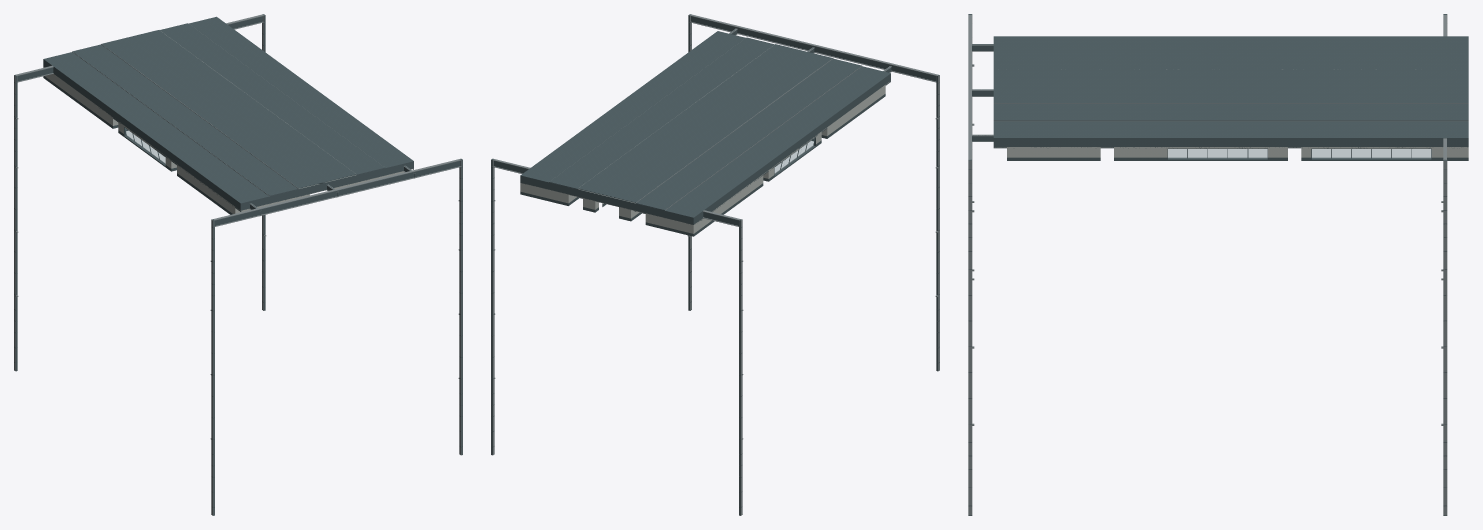
The model's file is AST-CMD-001.glb.
3 views of the same model, side by side, from view 1: azimuth 30°, elevation 25°; view 2: azimuth 150°, elevation 25°; view 3: azimuth 270°, elevation 25° (orthographic). The views are drawn at different scales.
Parts seen in each view (by area): view 1: CMD_CELL_X-3_Y9_Z-2_ASTRAEA_staff_bluegrey_paint, CMD_CELL_X-3_Y9_Z0_ASTRAEA_staff_bluegrey_paint, CMD_CELL_X-3_Y9_Z-1_ASTRAEA_staff_bluegrey_paint, CMD_CELL_X-3_Y9_Z1_ASTRAEA_staff_bluegrey_paint, CMD_CELL_X-3_Y9_Z4_ASTRAEA_staff_bluegrey_paint, CMD_CELL_X-3_Y9_Z5_ASTRAEA_staff_bluegrey_paint, CMD_CELL_X-3_Y9_Z-3_ASTRAEA_staff_bluegrey_paint, CMD_CELL_X-1_Y9_Z5_ASTRAEA_staff_bluegrey_paint, CMD_CELL_X-3_Y9_Z2_ASTRAEA_staff_bluegrey_paint, CMD_CELL_X-3_Y9_Z3_ASTRAEA_staff_bluegrey_paint, CMD_CELL_X-3_Y9_Z-4_ASTRAEA_staff_bluegrey_paint, CMD_CELL_X-3_Y9_Z-5_ASTRAEA_staff_bluegrey_paint (+5 smaller); view 2: CMD_CELL_X-3_Y9_Z-1_ASTRAEA_staff_bluegrey_paint, CMD_CELL_X-3_Y9_Z0_ASTRAEA_staff_bluegrey_paint, CMD_CELL_X-3_Y9_Z-2_ASTRAEA_staff_bluegrey_paint, CMD_CELL_X-3_Y9_Z-3_ASTRAEA_staff_bluegrey_paint, CMD_CELL_X-3_Y9_Z-5_ASTRAEA_staff_bluegrey_paint, CMD_CELL_X-3_Y9_Z1_ASTRAEA_staff_bluegrey_paint, CMD_CELL_X-3_Y9_Z-4_ASTRAEA_staff_bluegrey_paint, CMD_CELL_X-3_Y9_Z2_ASTRAEA_staff_bluegrey_paint, CMD_CELL_X-3_Y9_Z4_ASTRAEA_staff_bluegrey_paint, CMD_CELL_X-3_Y9_Z3_ASTRAEA_staff_bluegrey_paint, CMD_CELL_X-3_Y9_Z-6_ASTRAEA_staff_bluegrey_paint, CMD_CELL_X-3_Y9_Z-7_ASTRAEA_staff_bluegrey_paint (+1 smaller); view 3: CMD_CELL_X2_Y9_Z0_ASTRAEA_staff_bluegrey_paint, CMD_CELL_X2_Y9_Z-1_ASTRAEA_staff_bluegrey_paint, CMD_CELL_X2_Y9_Z-5_ASTRAEA_staff_bluegrey_paint, CMD_CELL_X2_Y9_Z-4_ASTRAEA_staff_bluegrey_paint, CMD_CELL_X2_Y9_Z-3_ASTRAEA_staff_bluegrey_paint, CMD_CELL_X2_Y9_Z2_ASTRAEA_staff_bluegrey_paint, CMD_CELL_X2_Y9_Z-6_ASTRAEA_staff_bluegrey_paint, CMD_CELL_X2_Y9_Z-2_ASTRAEA_staff_bluegrey_paint, CMD_CELL_X2_Y9_Z4_ASTRAEA_staff_bluegrey_paint, CMD_CELL_X2_Y9_Z1_ASTRAEA_staff_bluegrey_paint, CMD_CELL_X2_Y9_Z3_ASTRAEA_staff_bluegrey_paint, CMD_CELL_X1_Y9_Z-6_ASTRAEA_staff_bluegrey_paint (+54 smaller).
Boxes of the visible parts, x1=… form: CMD_CELL_X-3_Y9_Z-2_ASTRAEA_staff_bluegrey_paint: x1=118, y1=107, x2=163, y2=141; CMD_CELL_X-3_Y9_Z0_ASTRAEA_staff_bluegrey_paint: x1=151, y1=131, x2=196, y2=159; CMD_CELL_X-3_Y9_Z-1_ASTRAEA_staff_bluegrey_paint: x1=135, y1=119, x2=179, y2=153; CMD_CELL_X-3_Y9_Z1_ASTRAEA_staff_bluegrey_paint: x1=168, y1=143, x2=213, y2=169; CMD_CELL_X-3_Y9_Z4_ASTRAEA_staff_bluegrey_paint: x1=218, y1=180, x2=263, y2=207; CMD_CELL_X-3_Y9_Z5_ASTRAEA_staff_bluegrey_paint: x1=235, y1=192, x2=279, y2=217; CMD_CELL_X-3_Y9_Z-3_ASTRAEA_staff_bluegrey_paint: x1=101, y1=95, x2=146, y2=121; CMD_CELL_X-1_Y9_Z5_ASTRAEA_staff_bluegrey_paint: x1=293, y1=177, x2=337, y2=202; CMD_CELL_X-3_Y9_Z2_ASTRAEA_staff_bluegrey_paint: x1=185, y1=156, x2=229, y2=182; CMD_CELL_X-3_Y9_Z3_ASTRAEA_staff_bluegrey_paint: x1=202, y1=168, x2=246, y2=194; CMD_CELL_X-3_Y9_Z-4_ASTRAEA_staff_bluegrey_paint: x1=85, y1=82, x2=129, y2=108; CMD_CELL_X-3_Y9_Z-5_ASTRAEA_staff_bluegrey_paint: x1=68, y1=70, x2=113, y2=96; CMD_CELL_X-3_Y9_Z-1_ASTRAEA_staff_bluegrey_paint: x1=757, y1=131, x2=802, y2=163; CMD_CELL_X-3_Y9_Z0_ASTRAEA_staff_bluegrey_paint: x1=774, y1=119, x2=818, y2=151; CMD_CELL_X-3_Y9_Z-2_ASTRAEA_staff_bluegrey_paint: x1=740, y1=143, x2=785, y2=176; CMD_CELL_X-3_Y9_Z-3_ASTRAEA_staff_bluegrey_paint: x1=724, y1=156, x2=768, y2=182; CMD_CELL_X-3_Y9_Z-5_ASTRAEA_staff_bluegrey_paint: x1=690, y1=180, x2=735, y2=206; CMD_CELL_X-3_Y9_Z1_ASTRAEA_staff_bluegrey_paint: x1=790, y1=107, x2=835, y2=133; CMD_CELL_X-3_Y9_Z-4_ASTRAEA_staff_bluegrey_paint: x1=707, y1=168, x2=751, y2=194; CMD_CELL_X-3_Y9_Z2_ASTRAEA_staff_bluegrey_paint: x1=807, y1=95, x2=852, y2=120; CMD_CELL_X-3_Y9_Z4_ASTRAEA_staff_bluegrey_paint: x1=840, y1=70, x2=885, y2=96; CMD_CELL_X-3_Y9_Z3_ASTRAEA_staff_bluegrey_paint: x1=824, y1=82, x2=868, y2=108; CMD_CELL_X-3_Y9_Z-6_ASTRAEA_staff_bluegrey_paint: x1=674, y1=192, x2=718, y2=219; CMD_CELL_X-3_Y9_Z-7_ASTRAEA_staff_bluegrey_paint: x1=665, y1=204, x2=701, y2=224; CMD_CELL_X2_Y9_Z0_ASTRAEA_staff_bluegrey_paint: x1=1167, y1=121, x2=1207, y2=159; CMD_CELL_X2_Y9_Z-1_ASTRAEA_staff_bluegrey_paint: x1=1207, y1=121, x2=1248, y2=157; CMD_CELL_X2_Y9_Z-5_ASTRAEA_staff_bluegrey_paint: x1=1368, y1=121, x2=1408, y2=158; CMD_CELL_X2_Y9_Z-4_ASTRAEA_staff_bluegrey_paint: x1=1328, y1=121, x2=1368, y2=158; CMD_CELL_X2_Y9_Z-3_ASTRAEA_staff_bluegrey_paint: x1=1288, y1=121, x2=1328, y2=159; CMD_CELL_X2_Y9_Z2_ASTRAEA_staff_bluegrey_paint: x1=1087, y1=121, x2=1127, y2=148; CMD_CELL_X2_Y9_Z-6_ASTRAEA_staff_bluegrey_paint: x1=1408, y1=121, x2=1448, y2=159; CMD_CELL_X2_Y9_Z-2_ASTRAEA_staff_bluegrey_paint: x1=1248, y1=121, x2=1287, y2=159; CMD_CELL_X2_Y9_Z4_ASTRAEA_staff_bluegrey_paint: x1=1007, y1=121, x2=1047, y2=147; CMD_CELL_X2_Y9_Z1_ASTRAEA_staff_bluegrey_paint: x1=1127, y1=121, x2=1167, y2=148; CMD_CELL_X2_Y9_Z3_ASTRAEA_staff_bluegrey_paint: x1=1047, y1=121, x2=1087, y2=147; CMD_CELL_X1_Y9_Z-6_ASTRAEA_staff_bluegrey_paint: x1=1408, y1=103, x2=1448, y2=120.
Bounding box in the file's own units: 104 × 118 × 150.
8 materials, 7 textured.
